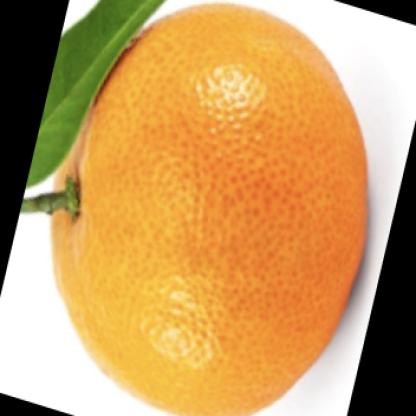fresh: (47, 5, 372, 416)
